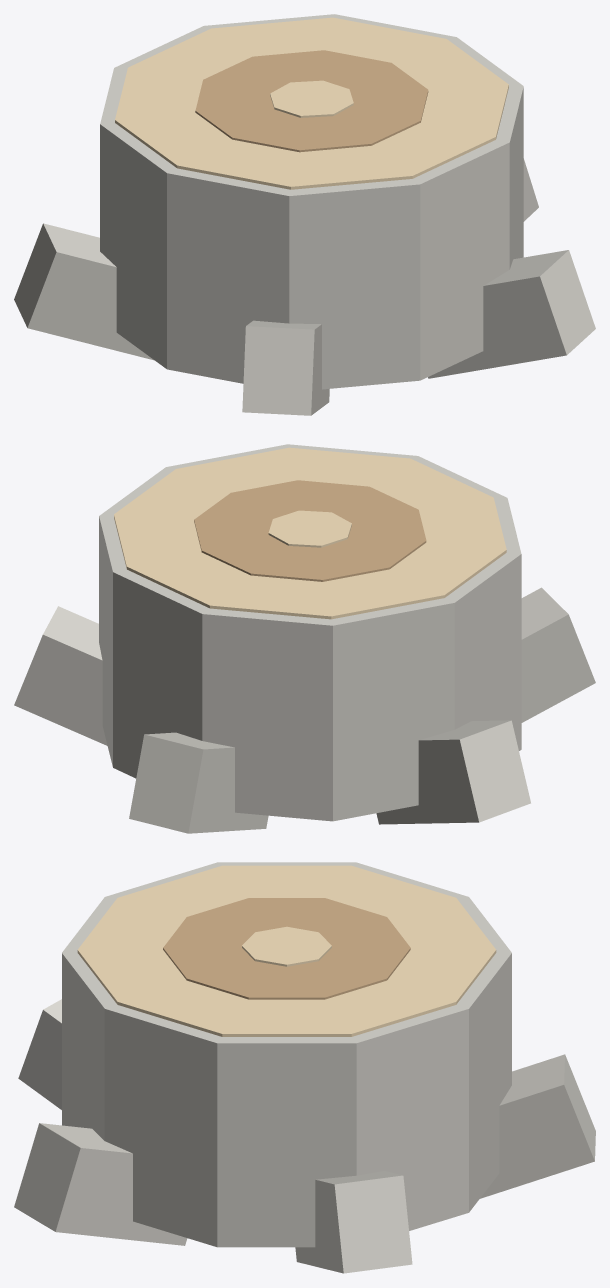
Rendered from Stump_Birch.fbx.
3 views of the same model, one above another, from view 1: azimuth 30°, elevation 25°; view 2: azimuth 150°, elevation 25°; view 3: azimuth 270°, elevation 25° (orthographic). The views are drawn at different scales.
Parts seen in each view (by area): view 1: Stump_Birch_Mesh; view 2: Stump_Birch_Mesh; view 3: Stump_Birch_Mesh.
Boxes of the visible parts, x1,y1,x2,y2 form: Stump_Birch_Mesh: (14,14,595,415); Stump_Birch_Mesh: (14,444,595,833); Stump_Birch_Mesh: (14,862,595,1273).
Size of the model in its own units: 2.71 by 1.23 by 2.59.
